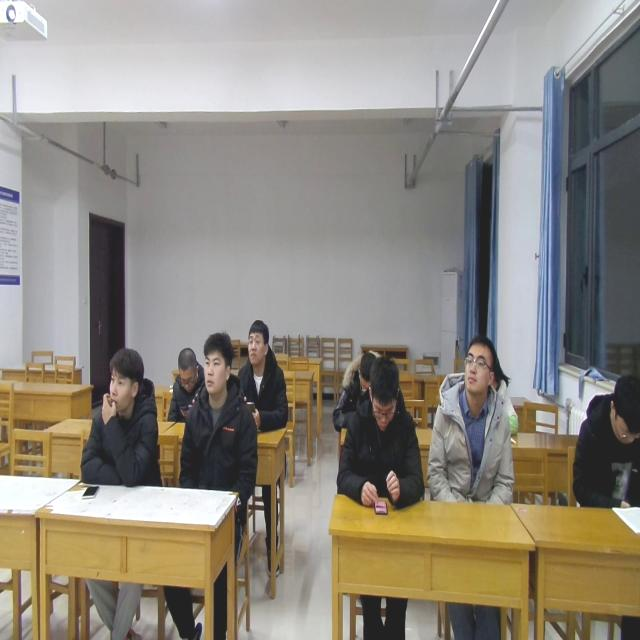bow: (330, 345, 384, 435)
down: (606, 365, 638, 455), (364, 354, 400, 430), (174, 341, 198, 393), (355, 348, 376, 394)
lookup: (104, 345, 144, 416), (200, 329, 235, 405), (462, 333, 499, 395), (244, 317, 272, 369)
sit: (425, 332, 515, 504), (334, 355, 426, 506), (177, 331, 260, 494), (80, 344, 164, 487), (571, 371, 640, 511), (236, 318, 290, 434), (165, 340, 208, 420)
